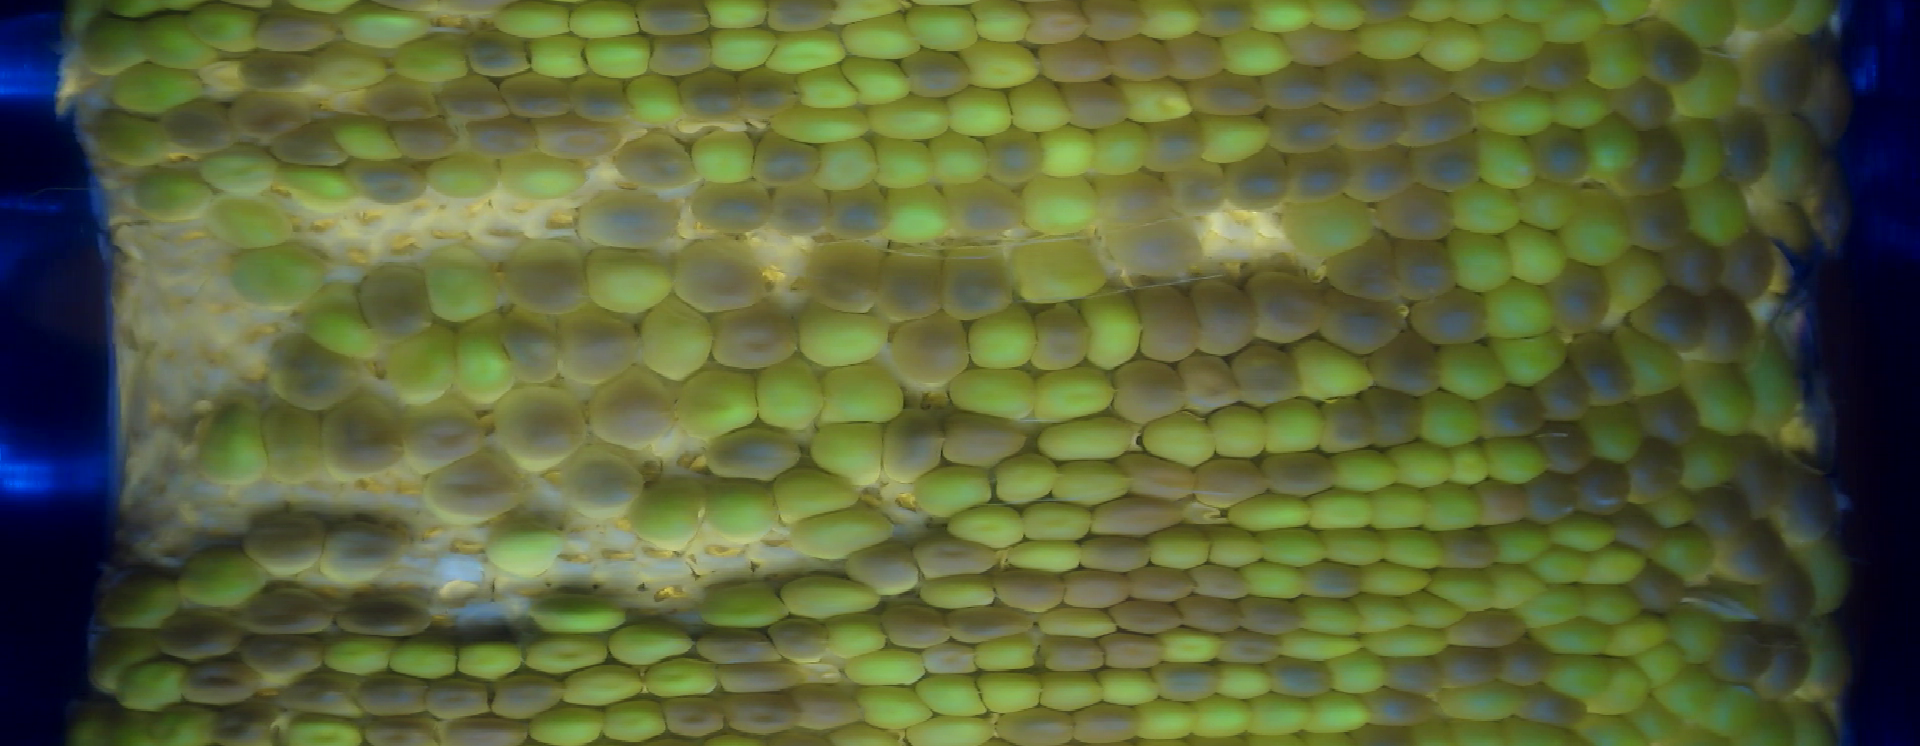fluorescent: (634, 288, 729, 387), (784, 298, 904, 375), (1003, 232, 1118, 311), (1269, 187, 1380, 267), (224, 240, 331, 320), (448, 306, 525, 415), (778, 501, 911, 563), (375, 318, 467, 409), (579, 239, 683, 318), (189, 396, 274, 491), (415, 241, 507, 327), (171, 538, 276, 612), (958, 296, 1051, 380), (665, 364, 765, 441), (1739, 327, 1806, 441), (291, 281, 382, 365), (80, 624, 180, 699), (763, 459, 873, 528), (1676, 356, 1764, 442), (1551, 184, 1640, 269), (623, 473, 713, 557), (1029, 404, 1140, 472), (1025, 356, 1128, 429), (91, 563, 187, 639), (811, 361, 917, 430), (1283, 332, 1382, 405), (807, 415, 896, 496), (696, 472, 785, 552), (1674, 170, 1757, 256), (1607, 320, 1693, 402), (748, 349, 828, 439), (1129, 404, 1227, 477), (253, 396, 329, 489), (1071, 285, 1149, 376), (940, 361, 1044, 428), (1793, 612, 1862, 710), (1010, 169, 1104, 241), (202, 190, 302, 257), (1760, 104, 1824, 208), (771, 570, 887, 627), (1593, 243, 1678, 321), (522, 588, 638, 644), (1438, 225, 1522, 303), (84, 104, 178, 174), (1794, 533, 1864, 626), (124, 163, 218, 230), (102, 61, 212, 119), (478, 516, 568, 586), (131, 6, 224, 73), (691, 575, 797, 633), (1660, 111, 1735, 194), (493, 145, 595, 205), (332, 1, 442, 56), (73, 9, 159, 78), (1041, 453, 1140, 513), (1485, 323, 1573, 391), (550, 657, 654, 713), (1576, 18, 1649, 98), (907, 456, 997, 521), (1442, 175, 1528, 243), (1674, 48, 1751, 122), (320, 109, 415, 169), (1573, 401, 1656, 470), (1478, 274, 1560, 344), (1404, 383, 1490, 450), (1209, 24, 1302, 85), (1498, 217, 1577, 287), (958, 34, 1049, 94), (298, 38, 393, 96), (1671, 425, 1747, 497), (263, 159, 365, 213), (831, 49, 921, 110), (1251, 393, 1333, 459), (1109, 72, 1201, 131), (1211, 489, 1321, 538), (864, 129, 942, 198), (938, 499, 1033, 555), (1199, 398, 1277, 467), (1189, 108, 1278, 168), (111, 654, 197, 717), (838, 639, 939, 692), (1011, 495, 1106, 551), (1472, 82, 1566, 138), (1577, 111, 1651, 184), (1464, 124, 1540, 194), (602, 617, 698, 673), (760, 22, 853, 78), (195, 141, 283, 200), (1471, 431, 1559, 490), (384, 29, 476, 86), (517, 627, 615, 680), (136, 697, 241, 746), (1002, 73, 1082, 137), (987, 442, 1062, 511), (964, 663, 1051, 722), (803, 136, 887, 197), (1416, 13, 1494, 78), (1082, 114, 1153, 185), (880, 184, 958, 249), (1511, 171, 1588, 236), (834, 9, 924, 64), (683, 124, 762, 187), (1031, 118, 1107, 183), (620, 67, 691, 136), (418, 151, 506, 206), (847, 680, 944, 730), (767, 102, 873, 147), (182, 1, 264, 60), (898, 2, 984, 58), (1318, 443, 1404, 499), (938, 83, 1018, 143), (867, 93, 958, 146), (1140, 521, 1221, 579), (446, 628, 531, 684), (381, 632, 470, 685), (1582, 654, 1652, 722), (1427, 338, 1510, 394), (923, 125, 996, 190), (636, 652, 726, 703), (1036, 601, 1128, 652), (1649, 521, 1720, 586), (1409, 478, 1488, 537), (816, 606, 896, 663), (965, 626, 1049, 680), (1300, 481, 1385, 535), (1662, 600, 1729, 668), (1381, 436, 1458, 495), (576, 29, 658, 85), (591, 691, 673, 746), (909, 670, 994, 723), (1244, 522, 1333, 572), (1506, 579, 1589, 633), (1423, 563, 1506, 617), (789, 58, 863, 118), (1540, 650, 1621, 706), (1369, 526, 1453, 578), (1360, 478, 1435, 537), (705, 21, 782, 77), (1236, 688, 1318, 741), (1540, 81, 1622, 134), (1183, 688, 1261, 744), (1480, 514, 1559, 570), (1349, 16, 1435, 66), (1341, 586, 1420, 639), (320, 628, 402, 680), (1000, 533, 1093, 578), (913, 568, 1002, 616), (1472, 13, 1547, 70), (1658, 1, 1741, 51), (1572, 577, 1646, 633), (1289, 592, 1374, 641), (1195, 519, 1270, 575), (520, 699, 609, 746), (1347, 556, 1435, 603), (1311, 523, 1393, 572), (1151, 624, 1231, 674), (520, 29, 593, 85), (1618, 691, 1690, 746), (1700, 680, 1767, 739), (1598, 612, 1679, 661), (1276, 624, 1368, 666), (1032, 666, 1111, 717), (1236, 556, 1311, 608), (1320, 646, 1396, 697), (1651, 663, 1719, 719), (1127, 696, 1207, 744), (1480, 559, 1555, 610), (1090, 661, 1168, 710), (1356, 620, 1453, 659), (965, 1, 1044, 49), (277, 707, 373, 746), (1299, 688, 1376, 737), (1524, 614, 1608, 659), (486, 1, 576, 43), (1134, 1, 1216, 47), (1562, 706, 1653, 746), (1522, 541, 1597, 590), (1577, 540, 1652, 589), (904, 709, 1003, 746), (1393, 587, 1471, 633), (1533, 1, 1610, 47), (1549, 508, 1625, 554), (561, 1, 645, 42), (1209, 657, 1280, 704), (1627, 644, 1693, 695), (1245, 1, 1322, 44), (1777, 697, 1844, 746), (1438, 441, 1500, 492), (97, 701, 163, 746), (1640, 486, 1703, 533), (696, 1, 782, 34), (1494, 710, 1575, 746), (53, 703, 118, 746), (1302, 1, 1376, 36), (1727, 1, 1801, 36), (825, 1, 913, 29), (1442, 1, 1509, 31), (1408, 1, 1457, 29)
nonfluorescent: (482, 379, 594, 477), (416, 443, 535, 533), (261, 322, 370, 415), (582, 363, 684, 459), (495, 233, 601, 318), (315, 391, 413, 484), (1764, 443, 1845, 556), (571, 184, 688, 258), (396, 393, 496, 480), (1237, 267, 1336, 354), (551, 303, 644, 393), (1123, 278, 1216, 367), (671, 235, 768, 318), (553, 443, 653, 523), (350, 260, 440, 348), (883, 306, 975, 392), (1739, 32, 1824, 122), (705, 294, 802, 374), (310, 513, 409, 589), (1104, 214, 1213, 283), (1720, 428, 1796, 526), (1311, 284, 1411, 359), (697, 423, 811, 488), (1559, 326, 1644, 412), (934, 238, 1018, 326), (802, 236, 889, 320), (1536, 254, 1619, 341), (862, 245, 951, 326), (233, 508, 334, 579), (493, 304, 571, 397), (1180, 273, 1262, 360), (1626, 281, 1713, 363), (1319, 225, 1404, 306), (876, 405, 954, 492), (1798, 49, 1862, 153), (605, 126, 702, 196), (1704, 102, 1777, 194), (1621, 12, 1706, 91), (934, 405, 1036, 470), (1622, 381, 1712, 454), (1610, 119, 1689, 202), (1104, 356, 1193, 430), (1620, 184, 1702, 262), (1364, 327, 1449, 402), (144, 605, 245, 668), (938, 176, 1031, 244), (1224, 339, 1309, 413), (1690, 285, 1763, 370), (236, 584, 344, 642), (1402, 285, 1494, 353), (1109, 446, 1206, 510), (331, 590, 442, 646), (1370, 179, 1460, 247), (1513, 31, 1600, 100), (1610, 434, 1690, 510), (1185, 450, 1280, 513), (1749, 620, 1817, 707), (238, 4, 345, 59), (1367, 50, 1462, 111), (1172, 349, 1253, 421), (229, 627, 329, 685), (743, 125, 830, 191), (1701, 617, 1782, 688), (1089, 167, 1180, 229), (687, 176, 782, 236), (906, 529, 1009, 584), (1025, 299, 1096, 379), (1753, 555, 1824, 635), (1713, 224, 1782, 306), (1389, 93, 1484, 152), (1335, 142, 1423, 206), (839, 537, 924, 601), (1469, 379, 1555, 443), (1213, 147, 1296, 214), (1082, 492, 1191, 543), (1522, 119, 1600, 189), (1385, 233, 1463, 303), (691, 620, 793, 673), (1718, 517, 1793, 589), (1529, 413, 1605, 484), (525, 109, 624, 163), (1407, 131, 1488, 197), (274, 668, 369, 724), (1138, 109, 1211, 181), (1656, 228, 1731, 298), (895, 43, 980, 105), (429, 66, 514, 127), (1318, 51, 1398, 116), (1253, 445, 1346, 501), (1507, 677, 1596, 736), (339, 154, 432, 209), (1030, 34, 1123, 89), (816, 185, 898, 247), (1258, 100, 1344, 159), (479, 670, 569, 726), (347, 665, 435, 723), (222, 89, 313, 145), (1276, 146, 1357, 208), (1565, 450, 1636, 521), (711, 687, 807, 740), (981, 563, 1071, 619), (759, 179, 838, 243), (263, 120, 351, 176), (1605, 76, 1686, 137), (1183, 69, 1272, 124), (1435, 604, 1536, 653), (760, 610, 838, 674), (1423, 641, 1513, 695), (1270, 21, 1367, 71), (457, 27, 538, 87), (1359, 383, 1429, 452), (176, 658, 267, 710), (1249, 60, 1333, 116), (1600, 500, 1675, 563), (358, 73, 446, 127), (781, 680, 867, 735), (1071, 528, 1163, 579), (1098, 32, 1180, 89), (415, 668, 498, 724), (1053, 562, 1140, 616), (1309, 392, 1384, 454), (1482, 631, 1559, 691), (1051, 77, 1136, 131), (980, 124, 1052, 187), (1518, 467, 1591, 530), (492, 67, 576, 122), (1529, 361, 1598, 428), (634, 29, 720, 82), (673, 65, 746, 127), (732, 61, 804, 124), (1161, 156, 1233, 218), (1622, 559, 1696, 620), (1371, 646, 1451, 702), (563, 69, 638, 129), (1449, 55, 1536, 107), (989, 699, 1085, 746), (1467, 472, 1538, 534), (709, 655, 809, 699), (1259, 654, 1347, 704), (940, 601, 1041, 646), (382, 111, 464, 165), (879, 600, 958, 657), (1425, 523, 1504, 579), (460, 110, 545, 162), (1358, 685, 1449, 733), (1330, 103, 1412, 156), (231, 45, 317, 96), (1011, 1, 1096, 51), (202, 695, 284, 746), (1172, 592, 1255, 642), (1147, 655, 1227, 707), (1160, 29, 1231, 86), (1067, 698, 1150, 746), (1103, 595, 1188, 642), (651, 692, 730, 741), (1232, 592, 1310, 641), (1120, 563, 1207, 608), (1179, 561, 1261, 608), (1075, 1, 1157, 47), (431, 712, 538, 746), (1299, 557, 1374, 605), (629, 1, 719, 39), (758, 1, 844, 40), (1096, 625, 1168, 670), (356, 710, 446, 746), (1191, 1, 1262, 42), (1213, 628, 1284, 669), (916, 641, 987, 681), (1353, 1, 1429, 29)
